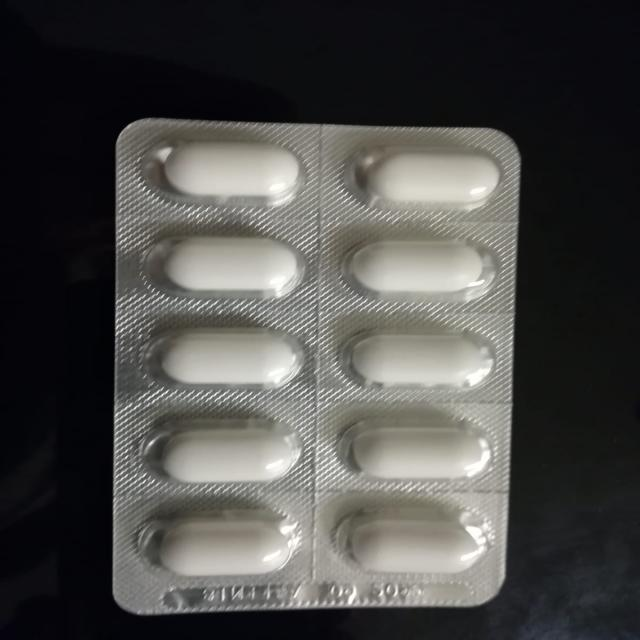Pill: (133, 224, 310, 305), (138, 132, 314, 209), (348, 136, 514, 216), (130, 416, 318, 485), (336, 321, 508, 396), (132, 506, 302, 578), (329, 412, 496, 484), (148, 323, 311, 396), (329, 233, 499, 300), (331, 511, 496, 577)
